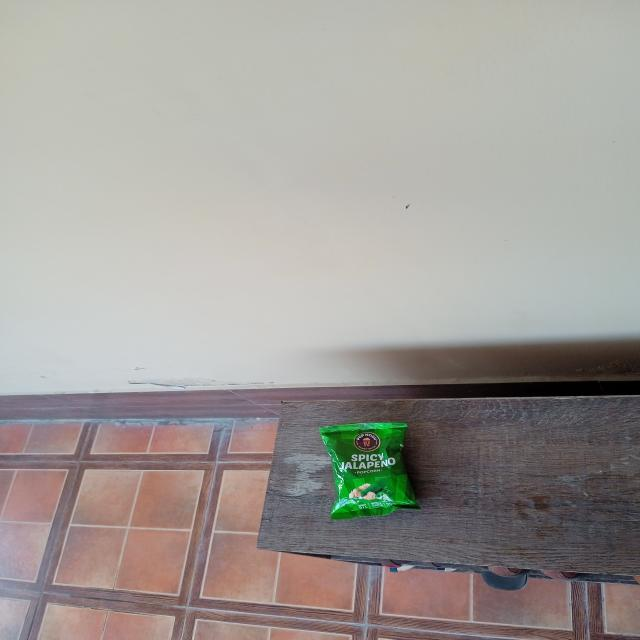Plastic: (332, 428, 412, 516)
